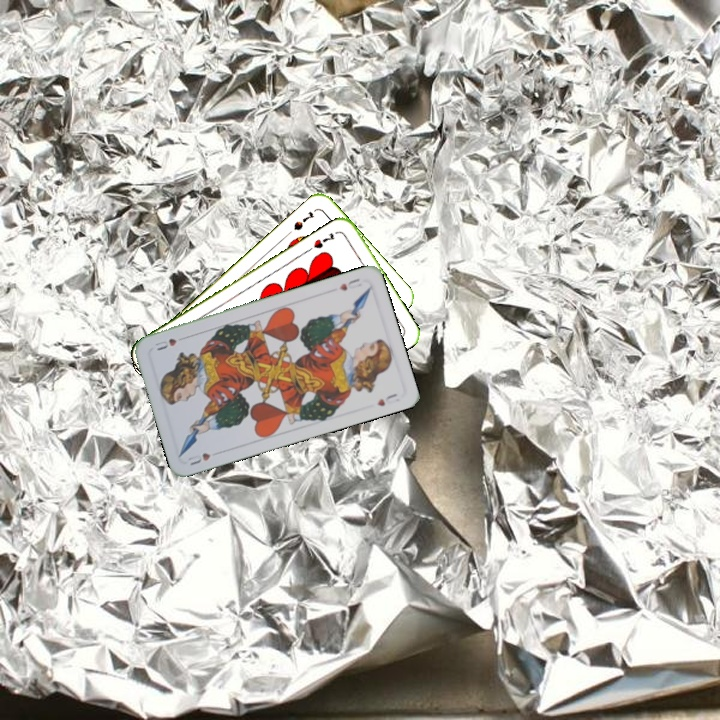H7: (309, 229, 337, 251)
HU: (335, 274, 364, 293), (184, 449, 213, 468)
S7: (289, 207, 316, 233)
